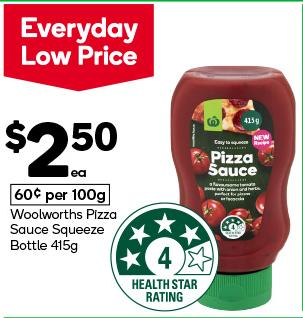description_block: (6, 208, 119, 257)
price_main: (0, 114, 133, 183)
product_image_block: (158, 58, 299, 310)
unit_price_block: (8, 184, 119, 207)
